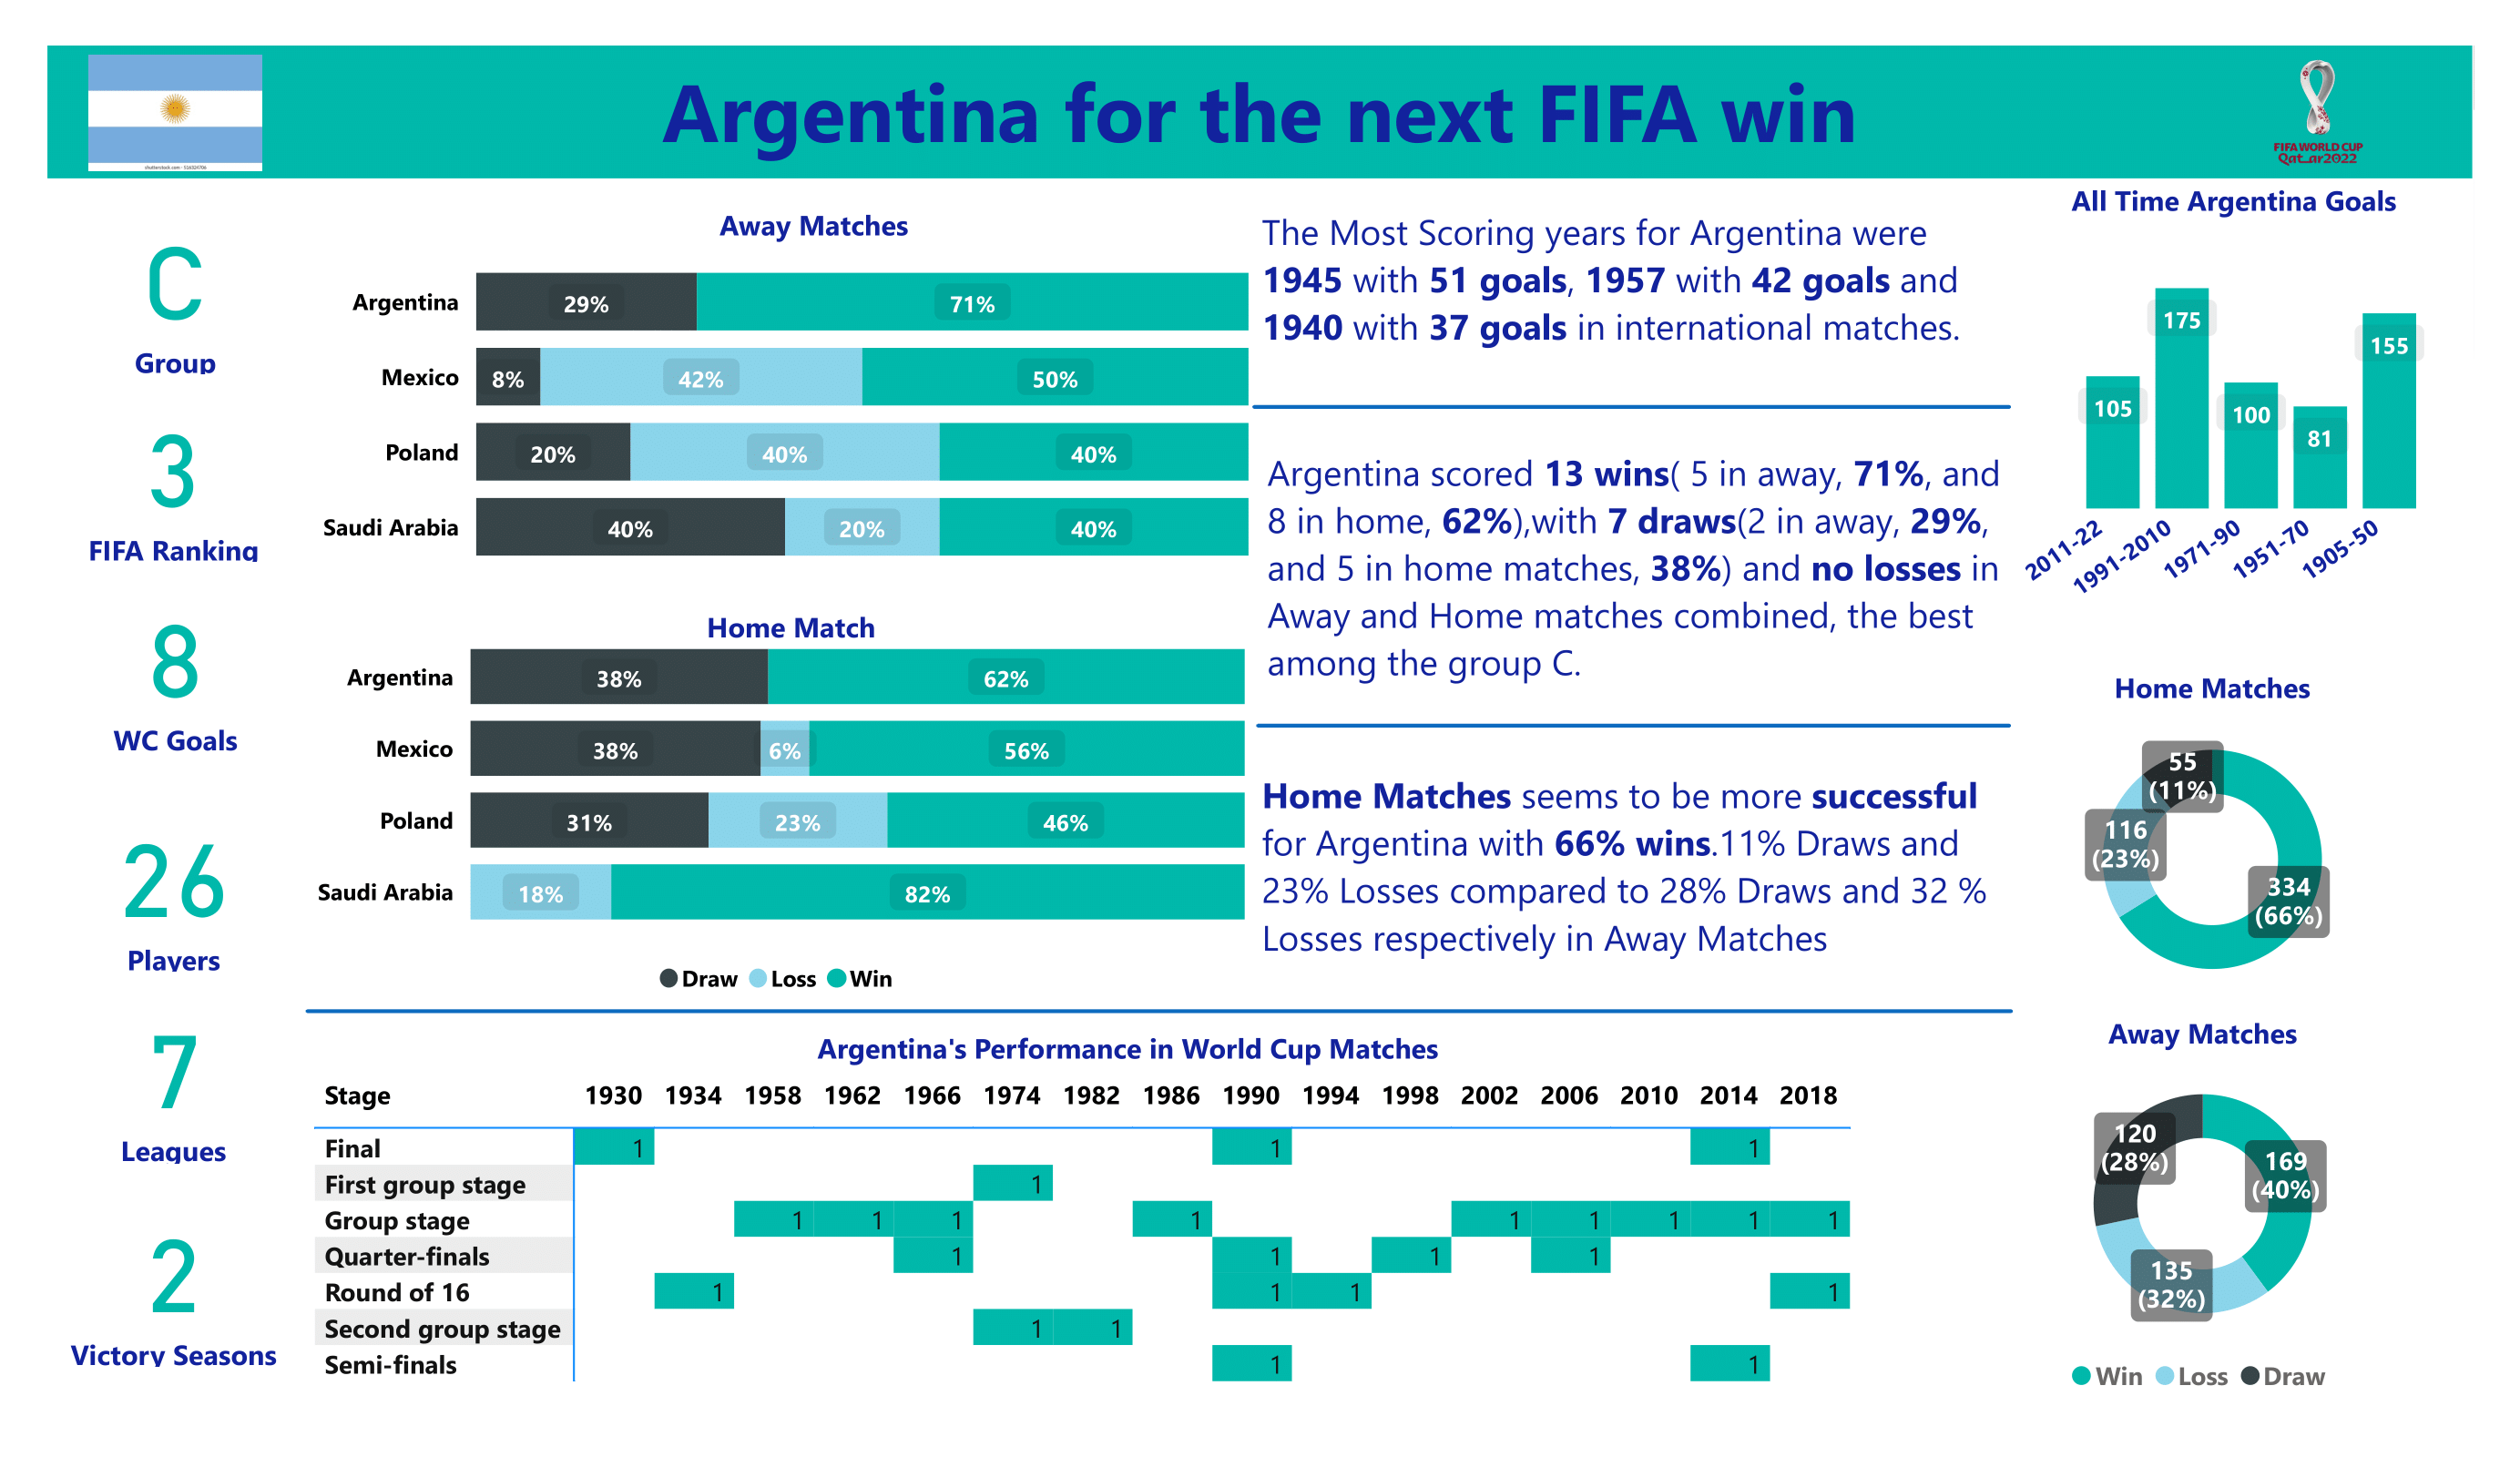

This screenshot's page, from the dashboard's own definition file:
{"tool":"powerbi","page":{"name":"Page 1","canvas":[1280,720],"ordinal":0},"visuals":[{"type":"card","fields":{"Values":["DAX.Group"]},"box":[0,79,136.5,99.2],"z":0},{"type":"card","fields":{"Values":["DAX.FIFA Ranking"]},"box":[0,178.2,135.1,99.2],"z":1000},{"type":"card","fields":{"Values":["DAX.WC Goals"]},"box":[0,277.4,136.5,100.6],"z":2000},{"type":"card","fields":{"Values":["DAX.Players"]},"box":[0,393.8,135.1,99.2],"z":3000},{"type":"card","fields":{"Values":["DAX.Leagues"]},"box":[0,494.4,135.1,99.2],"z":4000},{"type":"card","fields":{"Values":["DAX.Average Age"]},"box":[0,602.2,135.1,99.2],"z":5000},{"type":"pivotTable","title":"Argentina''s Performance in World Cup Matches","fields":{"Rows":["world_cup_matches.Stage"],"Columns":["world_cup_matches.Date.Variation.Date Hierarchy.Year"],"Values":["Count(world_cup_matches.Stage)"]},"box":[136.8,518.4,866.9,201.6],"z":6000},{"type":"donutChart","title":"Away Matches","fields":{"Category":["international_matches.Away team verdict"],"Y":["CountNonNull(international_matches.Away Team)"]},"box":[993.6,509.8,286.6,210.2],"z":7000},{"type":"donutChart","title":"Home Matches","fields":{"Y":["CountNonNull(international_matches.Home Team)"],"Category":["international_matches.Home team verdict"]},"box":[1003.7,328.3,276.5,181.4],"z":8000},{"type":"clusteredColumnChart","title":"All Time Argentina Goals","fields":{"Category":["international_matches.Year Group"],"Y":["DAX.All Time Arg Goals"]},"box":[1036.8,70.6,233.3,240.5],"z":9000},{"type":"hundredPercentStackedBarChart","fields":{"Category":["international_matches.Away Team Index","international_matches.Away Team"],"Y":["CountNonNull(international_matches.Away team verdict)"],"Series":["international_matches.Away team verdict"]},"box":[139.7,90.7,499.7,200.2],"z":10000},{"type":"textbox","box":[221.3,79,367.9,38.8],"z":11000},{"type":"textbox","box":[197.3,290.9,391.7,37.4],"z":12000},{"type":"textbox","box":[636.2,376.8,400,117.4],"z":13000},{"type":"textbox","box":[636.2,79.7,400,95.7],"z":14000},{"type":"hundredPercentStackedBarChart","fields":{"Category":["international_matches.Home Team Index","international_matches.Home Team"],"Y":["CountNonNull(international_matches.Home team verdict)"],"Series":["international_matches.Home team verdict"]},"box":[136.5,290.3,500.1,219.9],"z":15000},{"type":"shape","box":[636.2,175.4,400,30.4],"z":16000},{"type":"shape","box":[637.7,343.5,398.6,30.4],"z":17000},{"type":"shape","box":[136.8,493.9,900,30.2],"z":18000},{"type":"textbox","box":[639.1,207.2,397.1,136.2],"z":19000},{"type":"textbox","box":[1.4,0,1277.6,70.4],"z":20000},{"type":"image","box":[0,0,136.8,70.6],"z":21000},{"type":"image","box":[1124.6,0,145.4,70.6],"z":22000}]}

Visuals, with their boxes in screenshot pixels (x1, y1, x2, y2):
card - DAX.Group: 46, 196, 304, 383
card - DAX.FIFA Ranking: 46, 383, 301, 572
card - DAX.WC Goals: 46, 572, 304, 763
card - DAX.Players: 46, 792, 301, 981
card - DAX.Leagues: 46, 983, 301, 1172
card - DAX.Average Age: 46, 1188, 301, 1376
"Argentina''s Performance in World Cup Matches" pivotTable: 305, 1029, 1950, 1411
"Away Matches" donutChart: 1931, 1013, 2474, 1411
"Home Matches" donutChart: 1950, 668, 2474, 1013
"All Time Argentina Goals" clusteredColumnChart: 2013, 179, 2455, 636
hundredPercentStackedBarChart - international_matches.Away Team Index x international_matches.Away Team: 311, 218, 1259, 597
textbox: 465, 196, 1164, 269
textbox: 420, 597, 1163, 668
textbox: 1253, 760, 2012, 983
textbox: 1253, 197, 2012, 378
hundredPercentStackedBarChart - international_matches.Home Team Index x international_matches.Home Team: 304, 596, 1253, 1014
shape: 1253, 378, 2012, 436
shape: 1256, 698, 2012, 755
shape: 305, 983, 2013, 1040
textbox: 1259, 439, 2012, 697
textbox: 48, 46, 2473, 179
image: 46, 46, 305, 179
image: 2179, 46, 2455, 179
